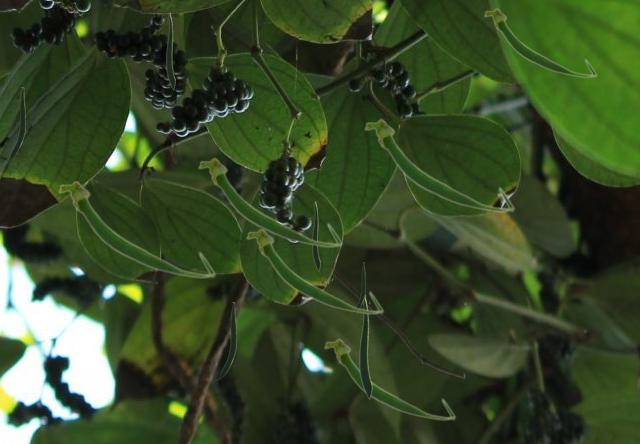french_bean: (57, 180, 215, 278), (363, 118, 514, 212), (197, 157, 342, 247), (245, 228, 383, 314), (323, 338, 455, 420), (483, 7, 596, 77), (216, 302, 235, 379), (6, 87, 24, 160), (359, 294, 371, 398), (166, 12, 174, 89), (352, 262, 364, 313), (312, 201, 319, 270)
